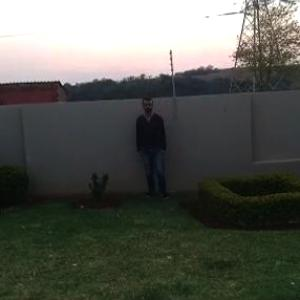follow: (134, 92, 168, 204)
